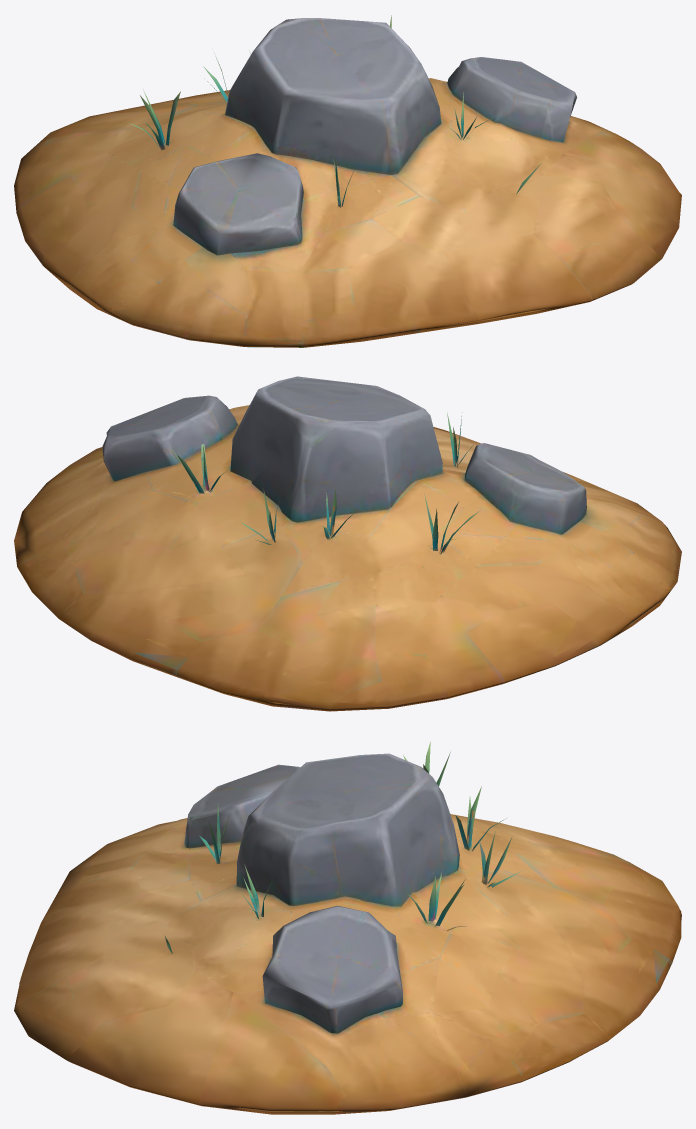
File: island.glb
3 views of the same model, one above another, from view 1: azimuth 30°, elevation 25°; view 2: azimuth 150°, elevation 25°; view 3: azimuth 270°, elevation 25° (orthographic). The views are drawn at different scales.
Bounding box in the file's own units: 1 × 0.2919 × 0.9537.
Materials: 1 (1 with a texture image).
